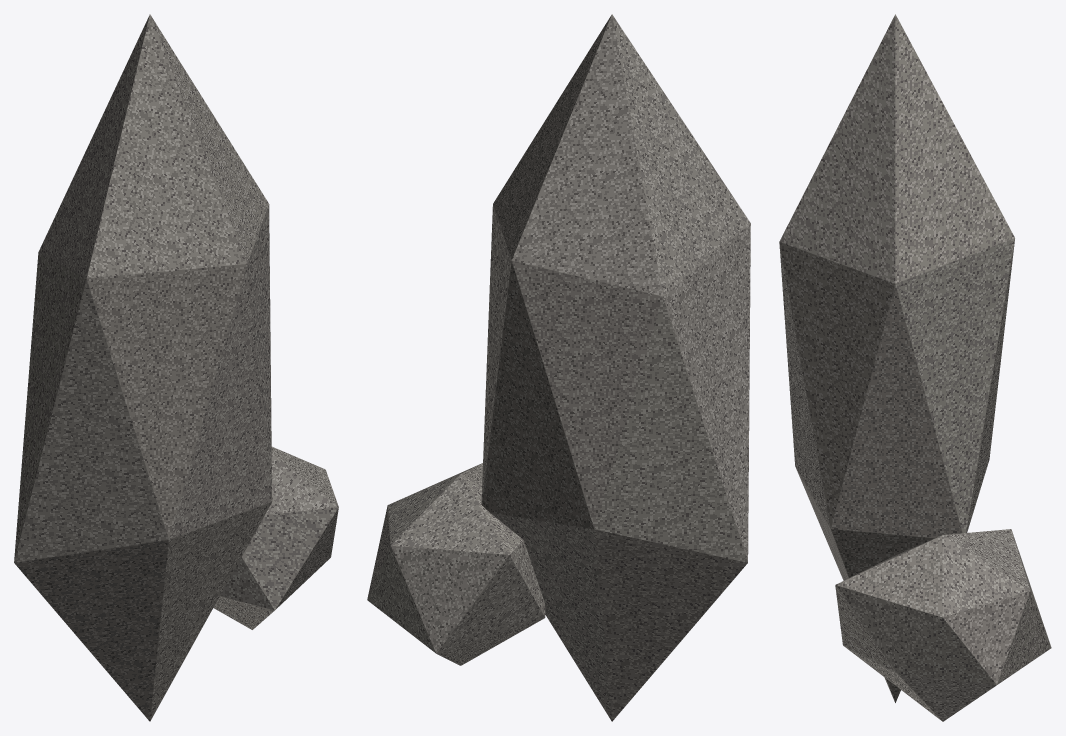
File: rock_spire.glb
3 views of the same model, side by side, from view 1: azimuth 30°, elevation 25°; view 2: azimuth 150°, elevation 25°; view 3: azimuth 270°, elevation 25° (orthographic). The views are drawn at different scales.
Parts seen in each view (by area): view 1: Body.014; view 2: Body.014; view 3: Body.014.
Boxes of the visible parts, x1=… form: Body.014: x1=14, y1=14, x2=338, y2=721; Body.014: x1=367, y1=14, x2=750, y2=721; Body.014: x1=779, y1=14, x2=1051, y2=721.
Size of the model in its own units: 1.59 by 3.2 by 1.15.
Materials: 1 (1 with a texture image).
